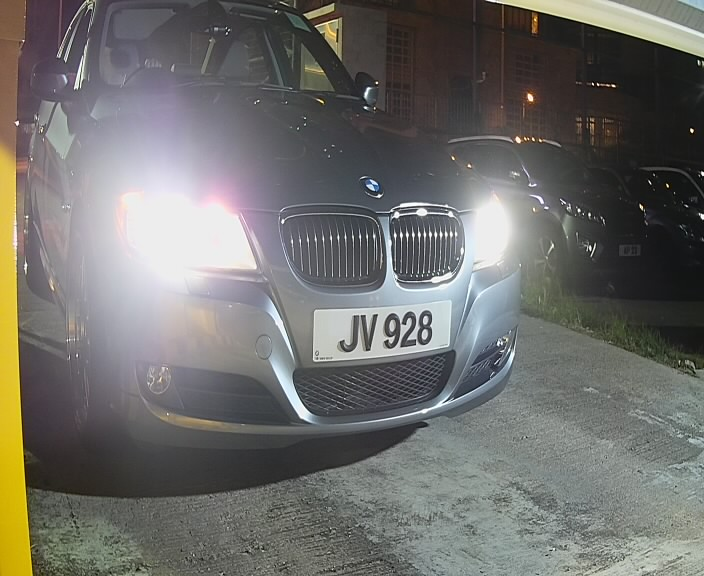Car: (2, 2, 571, 466)
License Plate: (307, 293, 458, 372)
